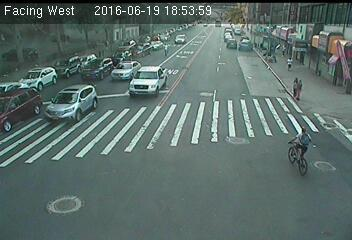neg: (277, 122, 317, 175), (155, 89, 183, 127), (134, 136, 156, 164), (197, 70, 216, 95)
pos: (291, 78, 309, 102), (286, 74, 301, 94), (160, 40, 172, 56), (277, 41, 286, 54), (284, 55, 293, 67)
